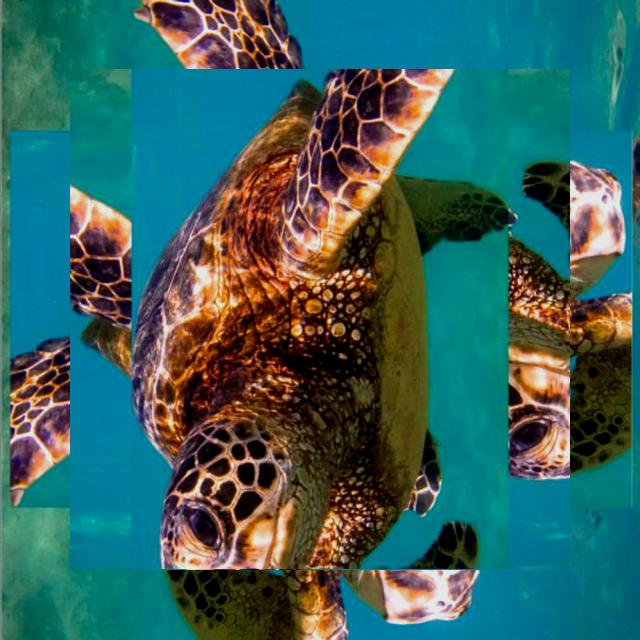Sea turtle: (70, 69, 570, 570)
